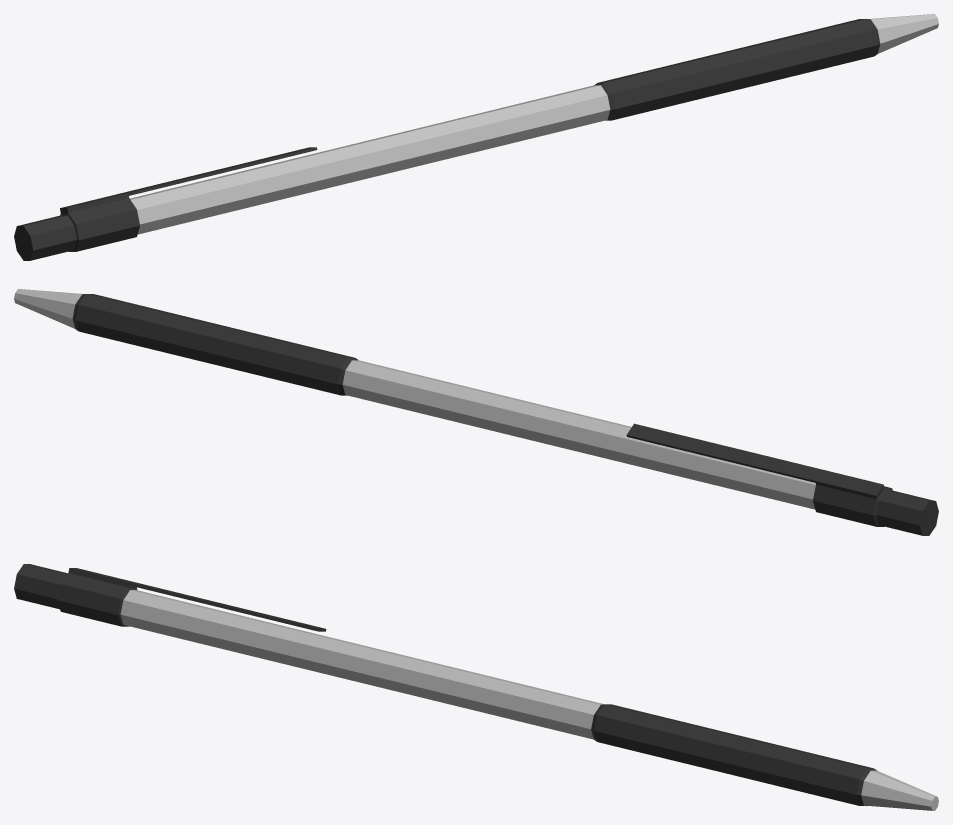
Rendered from Kuglepen_Sort.fbx.
3 renders of one model, top to bottom at view 1: azimuth 30°, elevation 25°; view 2: azimuth 150°, elevation 25°; view 3: azimuth 330°, elevation 25°, orthographic.
Parts seen in each view (by area): view 1: Cylinder.008; view 2: Cylinder.008; view 3: Cylinder.008.
Part boxes in pixels (x1=…): Cylinder.008: x1=14, y1=14, x2=938, y2=260; Cylinder.008: x1=14, y1=289, x2=938, y2=535; Cylinder.008: x1=14, y1=564, x2=938, y2=810.
Bounding box in the file's own units: 32.35 × 1.47 × 1.32.
